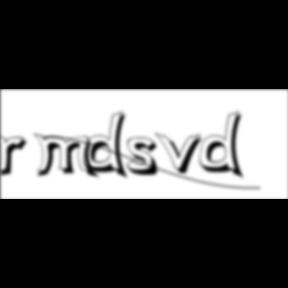d: (84, 110, 134, 182), (200, 110, 250, 182)
m: (34, 132, 102, 181)
r: (0, 134, 34, 180)
s: (126, 137, 166, 179)
v: (155, 131, 209, 177)
